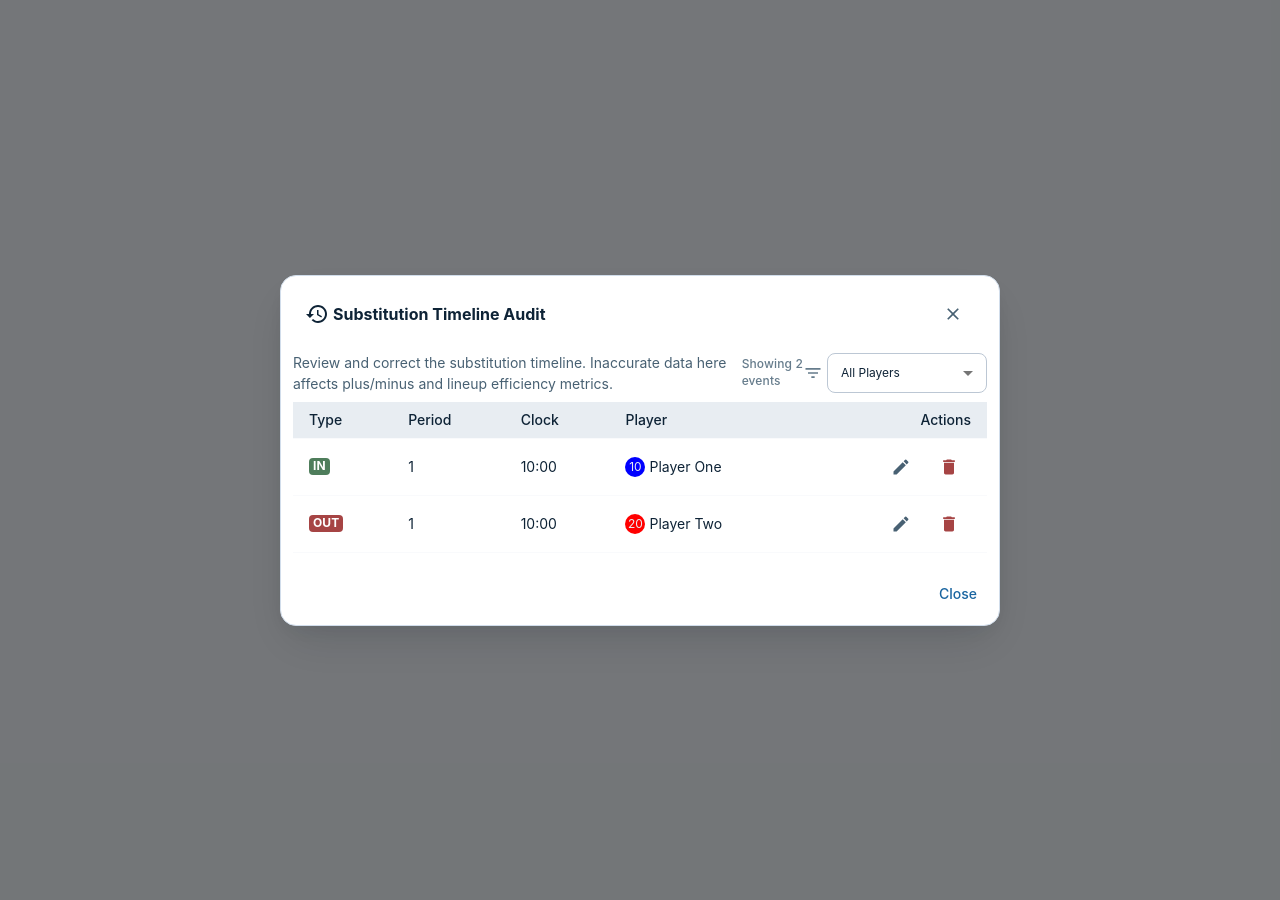
Scenario: SubstitutionAuditDialog › shows error snackbar and logs error if saving an edit fails
Click the button named "Edit sub in for Player One". click: (901, 466)
box: [879, 444, 923, 488]
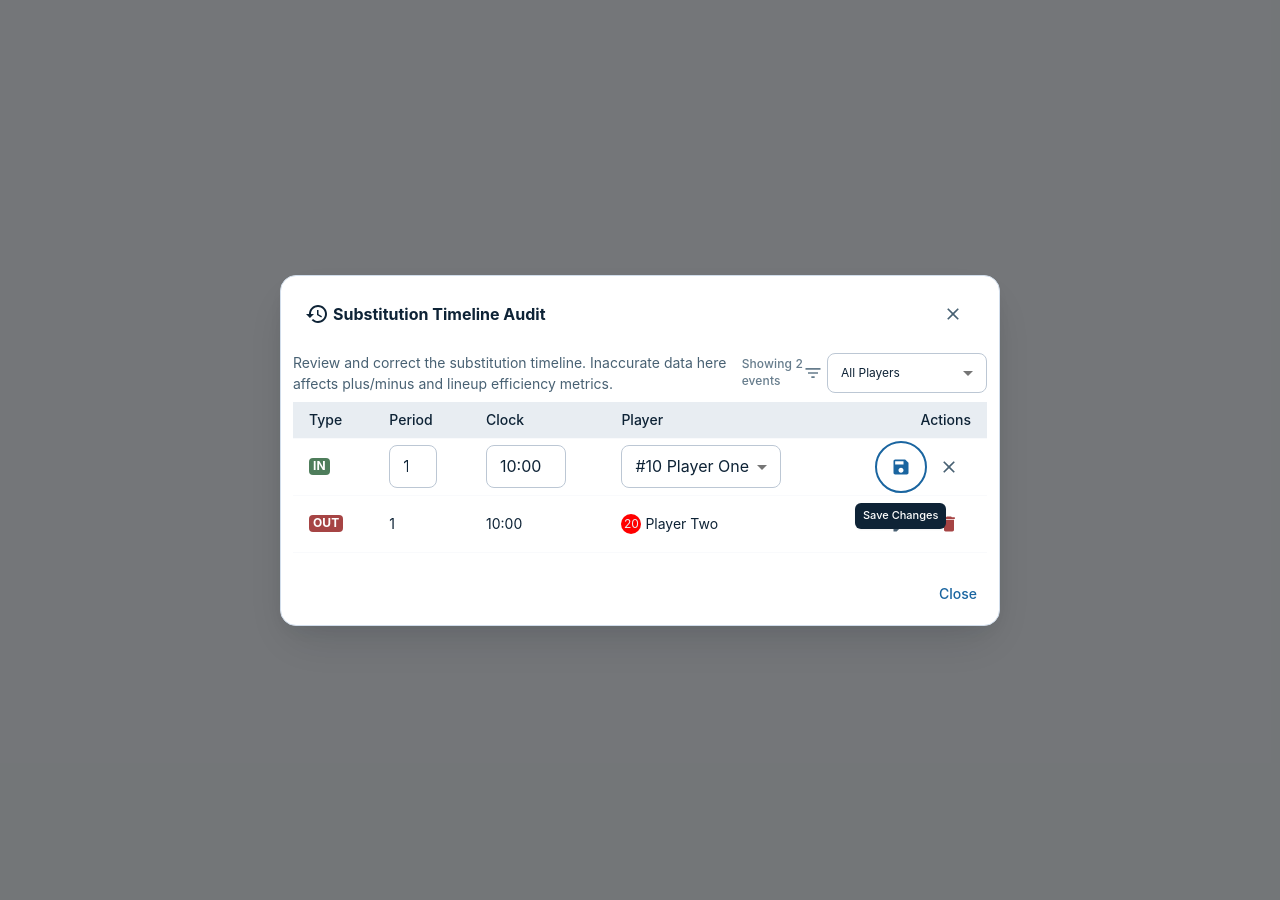
Click the button named "Save changes". click: (901, 466)
box: [879, 444, 923, 488]
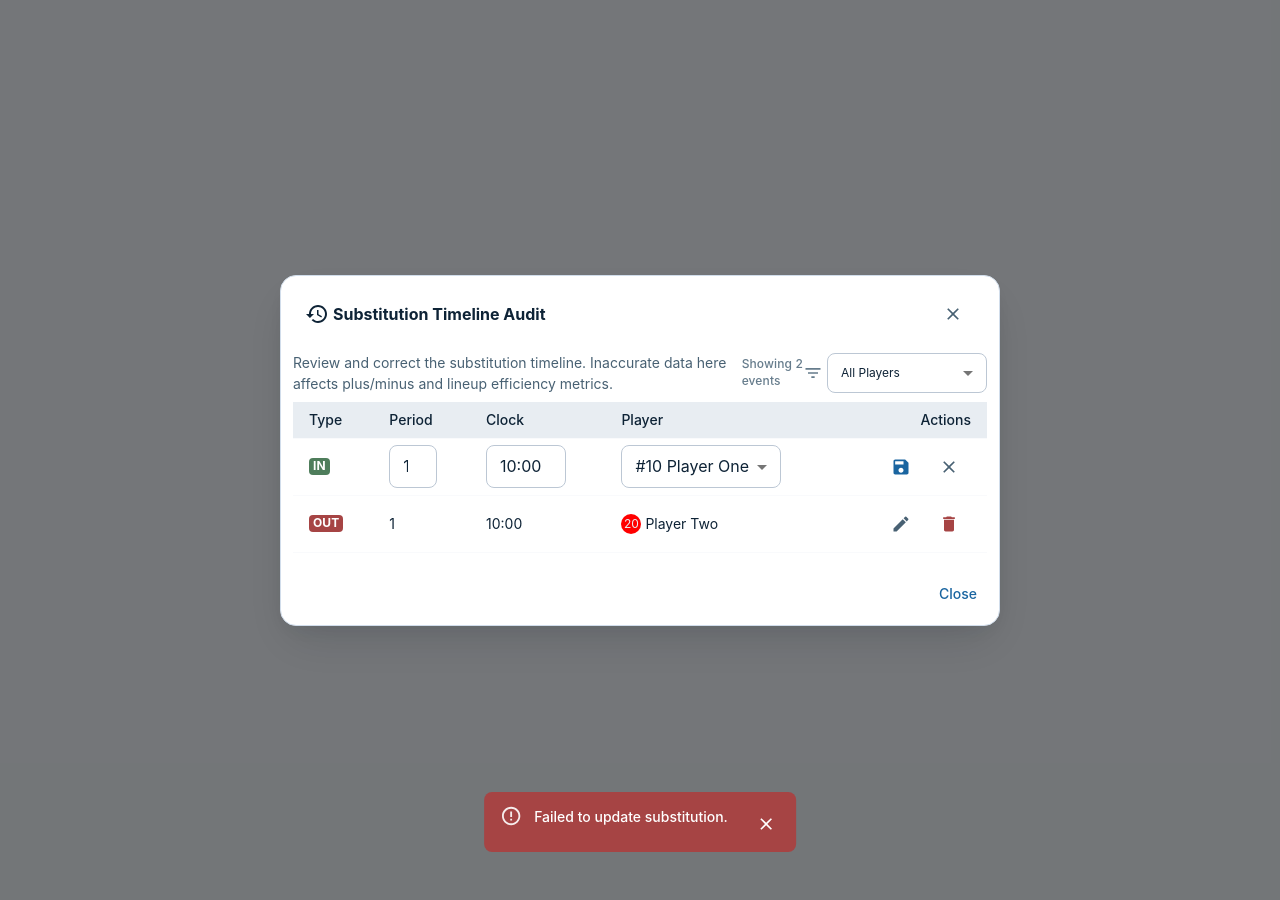
Expected: the text "Failed to update substitution." is shown, [534, 808, 728, 825]
